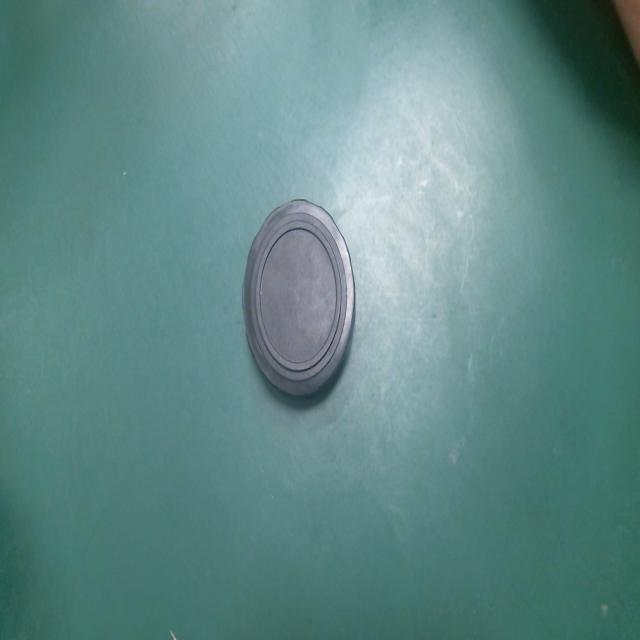cover: (234, 176, 369, 418)
